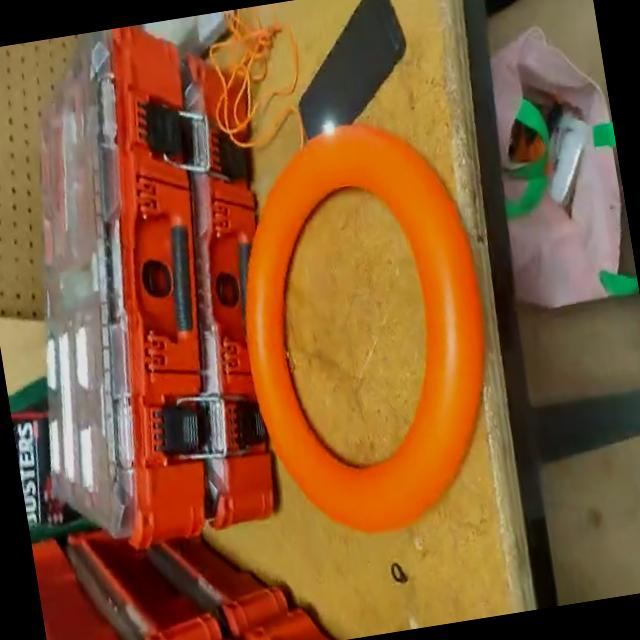note: (213, 108, 519, 553)
